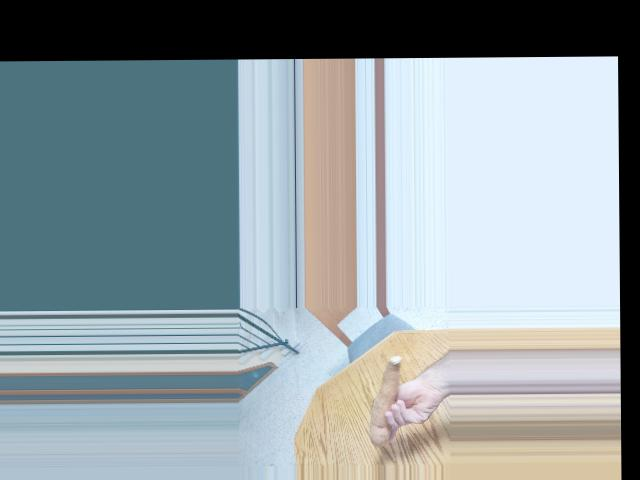sweet_potato: (365, 359, 406, 442)
